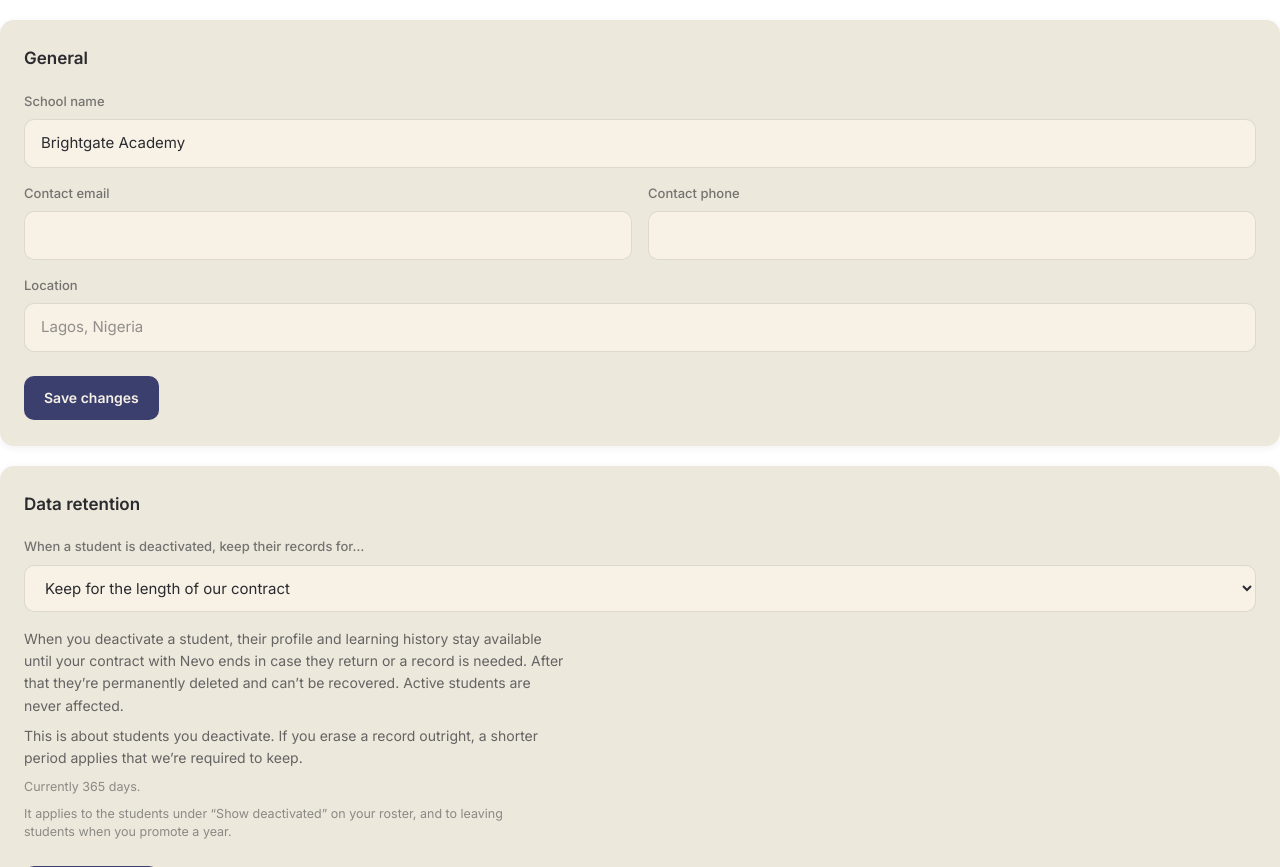
a refusal when the level wasn't known › is said as a refusal, not a failure to retry
Replace the text in the field labelled "School name" with "Brightgate College" at (640, 143), box x1=24 y1=119 x2=1256 y2=168
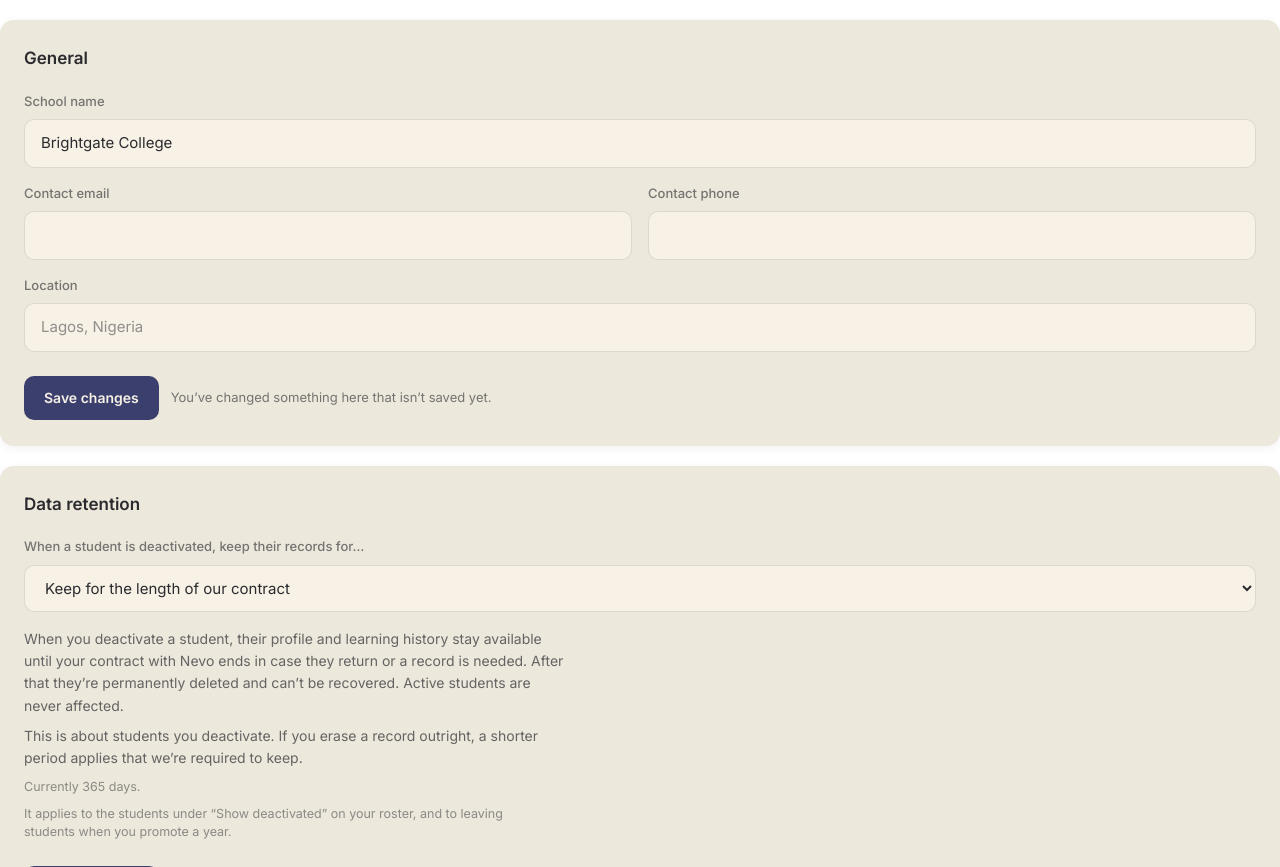
Click the button "Save changes" below "Location".
click(91, 398)  # box x1=24 y1=376 x2=159 y2=420
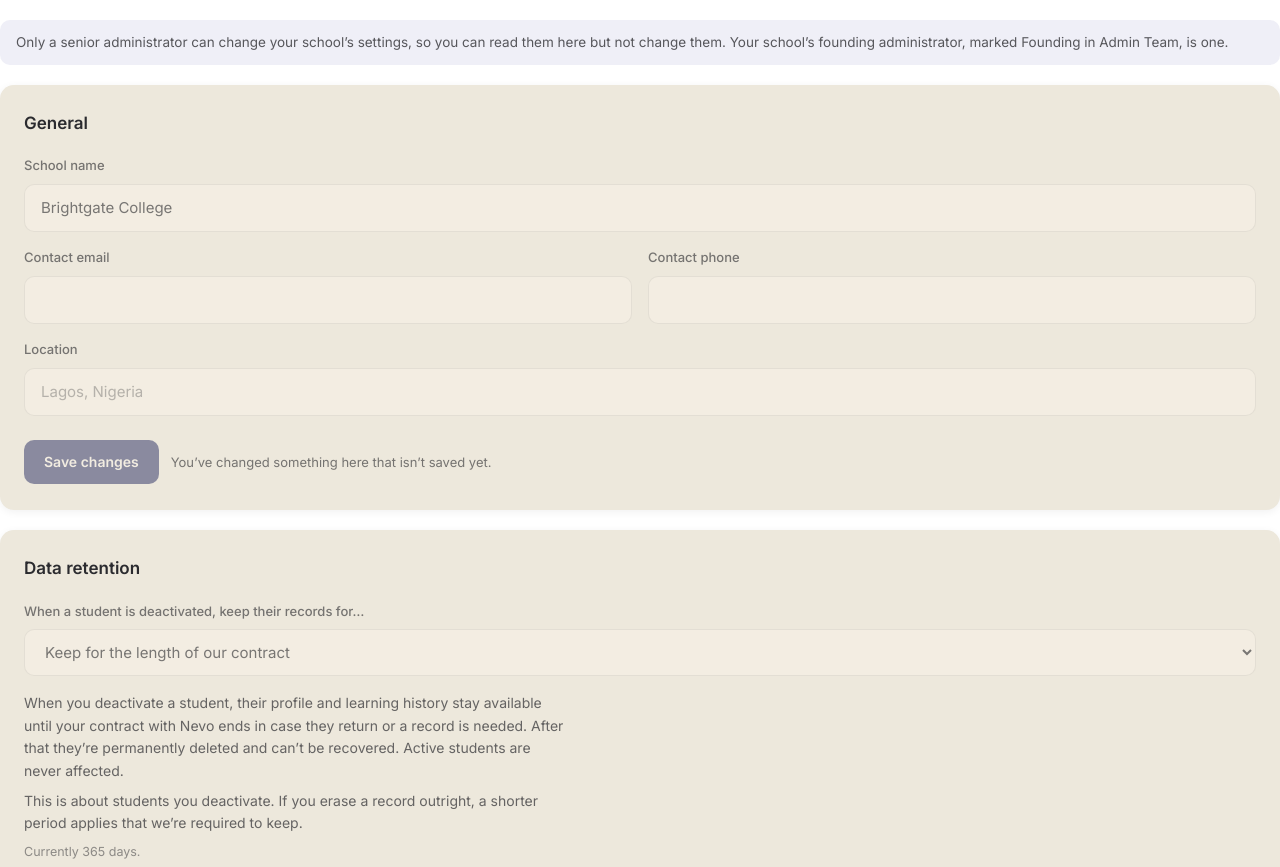
Expected: the field labelled "School name" is disabled, x1=24 y1=184 x2=1256 y2=232
Result: the text "Only a senior administrator can change your school.s settings" is shown at x1=16 y1=34 x2=1228 y2=50
